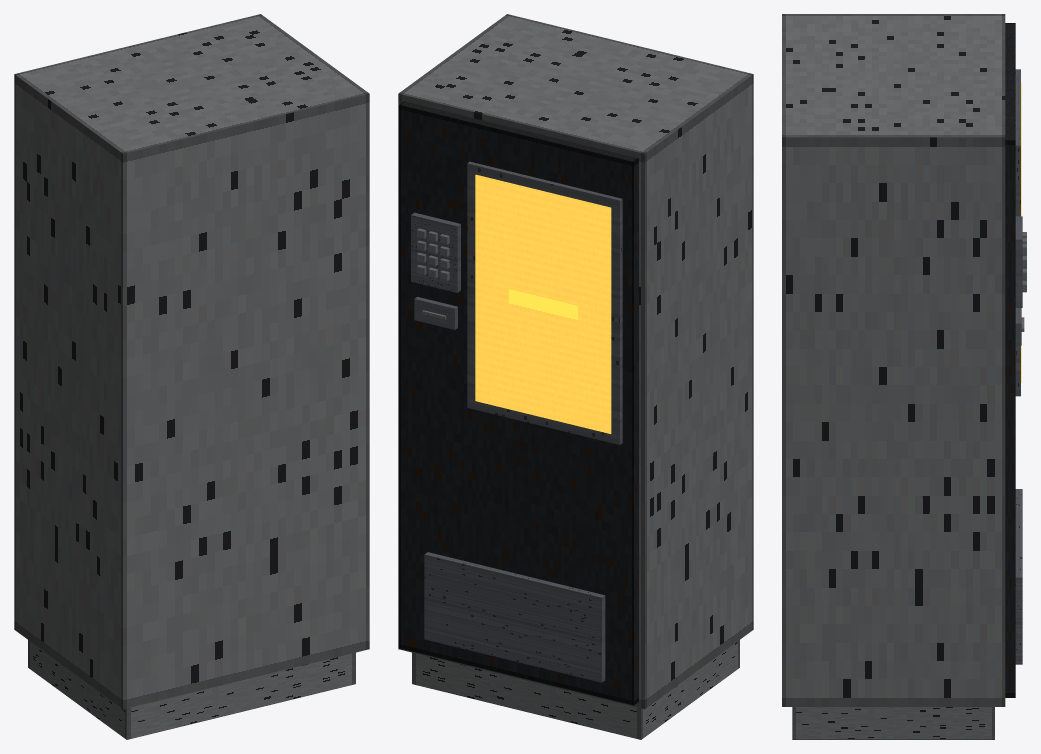
Rendered from ration_automat_medbay_clean.glb.
3 renders of one model, left to right at view 1: azimuth 30°, elevation 25°; view 2: azimuth 150°, elevation 25°; view 3: azimuth 270°, elevation 25°, orthographic. The views are drawn at different scales.
Parts seen in each view (by area): view 1: ration_automat_medbay_clean; view 2: ration_automat_medbay_clean; view 3: ration_automat_medbay_clean.
Part boxes in pixels (bbox=[...]): ration_automat_medbay_clean: bbox=[14, 14, 369, 739]; ration_automat_medbay_clean: bbox=[398, 14, 753, 739]; ration_automat_medbay_clean: bbox=[782, 14, 1026, 739].
Bounding box in the file's own units: 0.85 × 1.95 × 0.7125.
Materials: 7 (7 with a texture image).
